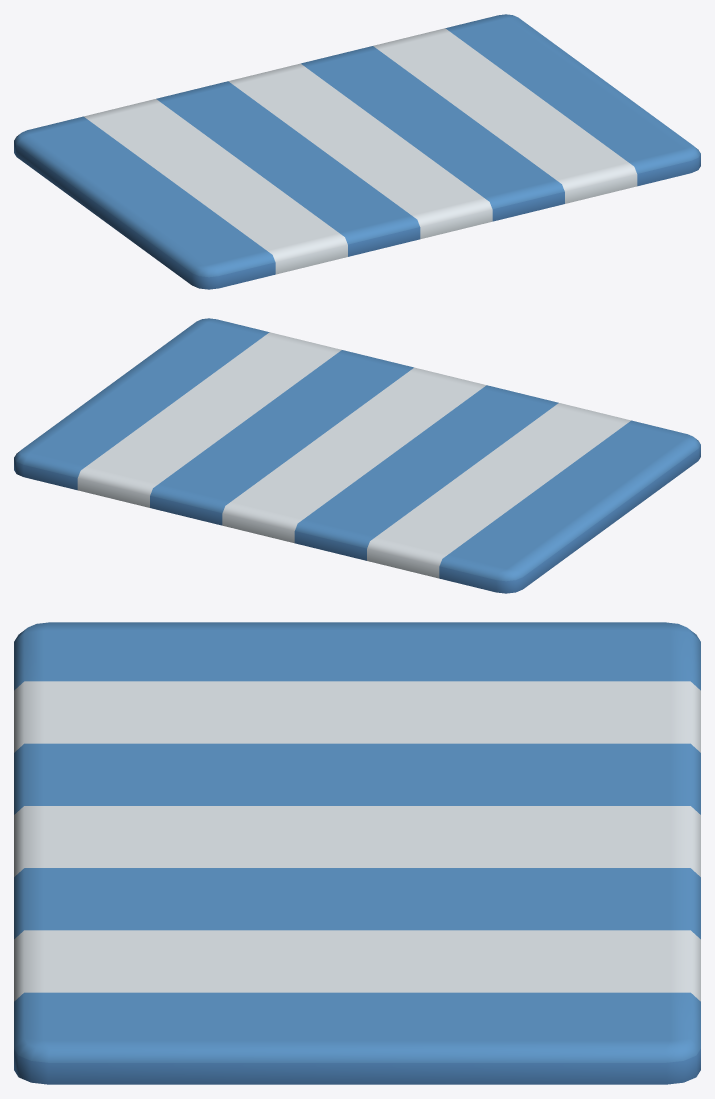
The model's file is rug.glb.
3 views of the same model, one above another, from view 1: azimuth 30°, elevation 25°; view 2: azimuth 150°, elevation 25°; view 3: azimuth 270°, elevation 25° (orthographic). The views are drawn at different scales.
Visible parts, largest first — view 1: rug; view 2: rug; view 3: rug.
Boxes of the visible parts, x1,y1,x2,y2 form: rug: [14, 14, 700, 289]; rug: [14, 318, 700, 593]; rug: [14, 622, 700, 1084].
Bounding box in the file's own units: 3 × 0.1 × 2.
1 material, 1 textured.
